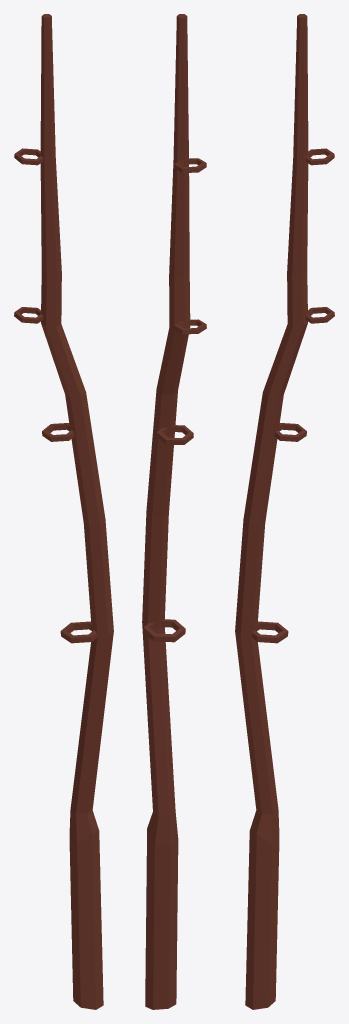
Rendered from fishing_rod_lvl1.glb.
The picture shows the model from 3 angles, left to right: view 1: azimuth 90°, elevation 25°; view 2: azimuth 210°, elevation 25°; view 3: azimuth 270°, elevation 25°; orthographic projection.
Visible parts, largest first — view 1: FishingRod_Lvl1; view 2: FishingRod_Lvl1; view 3: FishingRod_Lvl1.
Part boxes in pixels (x1,y1,x2,y2): FishingRod_Lvl1: (14,14,113,1009); FishingRod_Lvl1: (142,14,206,1009); FishingRod_Lvl1: (235,14,334,1009).
Bounding box in the file's own units: 0.0611 × 1.85 × 0.1693.
